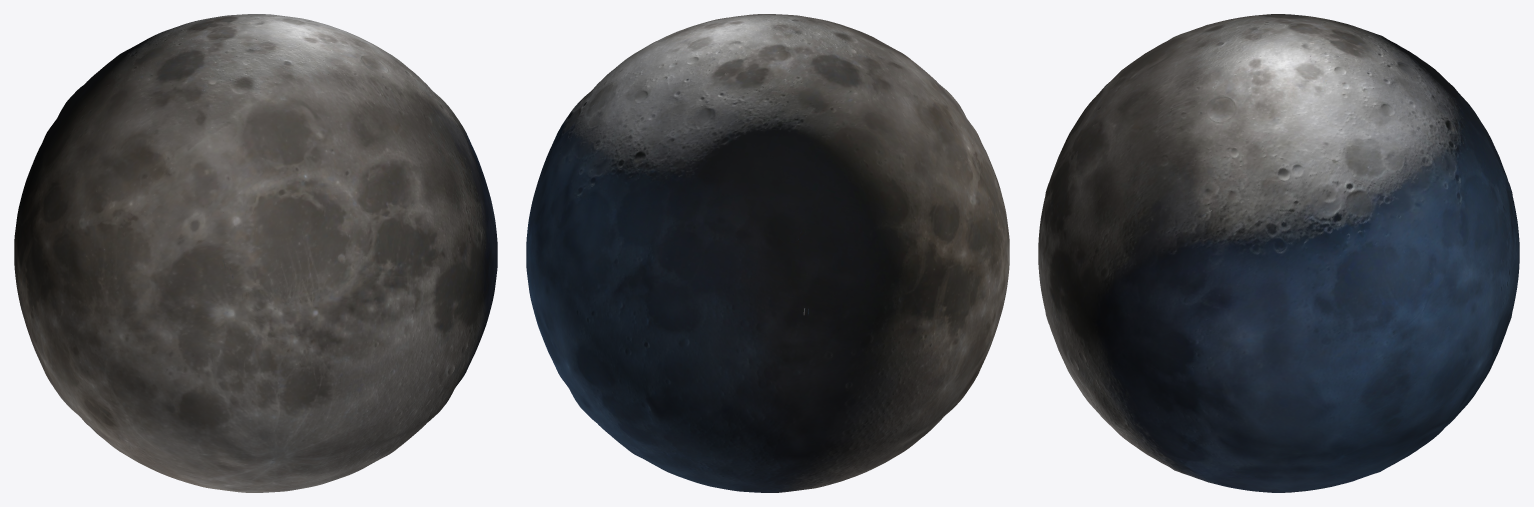
Rendered from moon.glb.
3 views of the same model, side by side, from view 1: azimuth 30°, elevation 25°; view 2: azimuth 150°, elevation 25°; view 3: azimuth 270°, elevation 25° (orthographic).
Bounding box in the file's own units: 1.99 × 1.99 × 1.99.
1 material, 1 textured.
